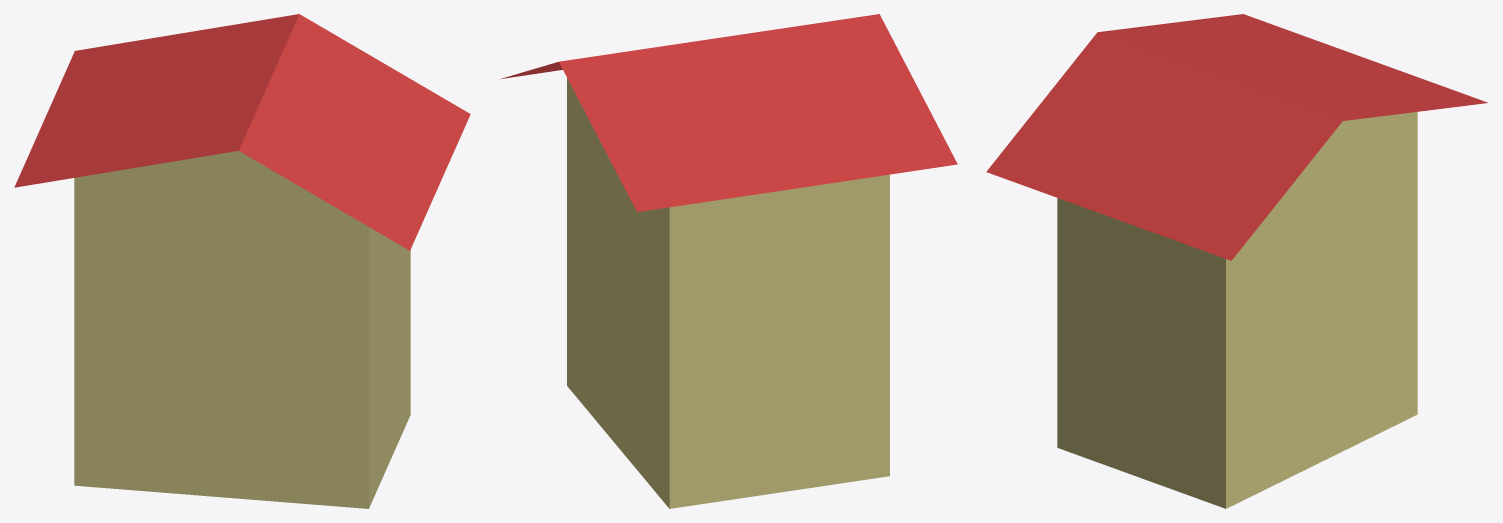
3 renders of one model, left to right at view 1: azimuth 30°, elevation 25°; view 2: azimuth 150°, elevation 25°; view 3: azimuth 270°, elevation 25°, orthographic. The views are drawn at different scales.
Bounding box in the file's own units: 7.57 × 7.46 × 5.95.
